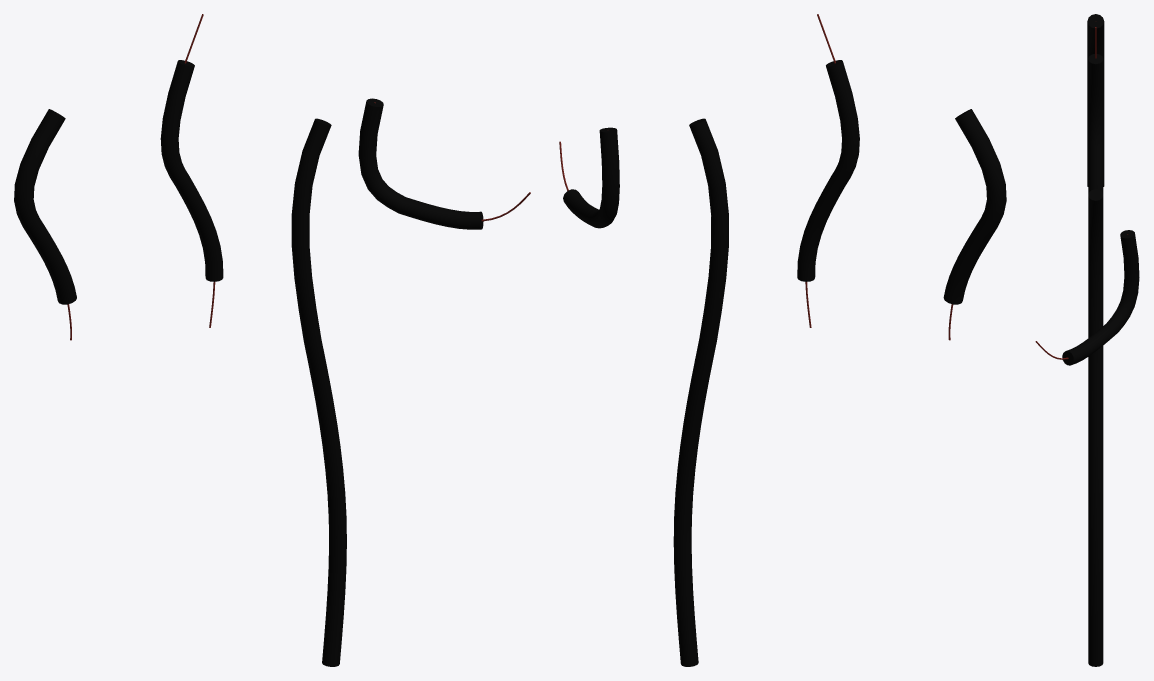
File: Wires.FBX
The picture shows the model from 3 angles, left to right: view 1: azimuth 30°, elevation 25°; view 2: azimuth 150°, elevation 25°; view 3: azimuth 270°, elevation 25°; orthographic projection. The views are drawn at different scales.
Parts seen in each view (by area): view 1: Whole_wire, Space_wire_bakar, Cut_wire, Line006; view 2: Whole_wire, Space_wire_bakar, Cut_wire, Line006; view 3: Whole_wire, Line006, Space_wire_bakar, Cut_wire.
Part boxes in pixels (x1,y1,x2,y2): Whole_wire: (291,118,346,666); Space_wire_bakar: (160,14,223,327); Cut_wire: (14,109,76,340); Line006: (358,98,530,229); Whole_wire: (673,118,728,666); Space_wire_bakar: (797,14,859,327); Cut_wire: (943,109,1006,340); Line006: (559,127,619,228); Whole_wire: (1088,189,1103,666); Line006: (1035,230,1139,365); Space_wire_bakar: (1088,27,1103,193); Cut_wire: (1087,14,1104,186).
Size of the model in its own units: 0.3107 by 0.4208 by 0.068.
